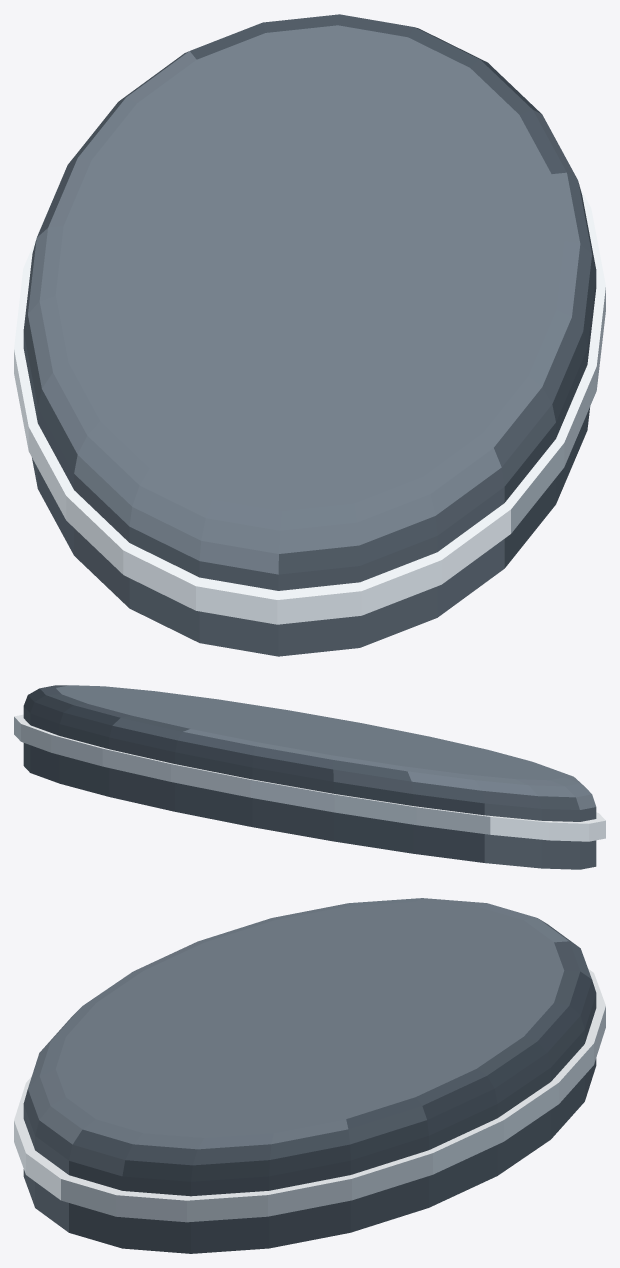
The model's file is Button_ResetBase.gltf.
3 renders of one model, top to bottom at view 1: azimuth 30°, elevation 25°; view 2: azimuth 150°, elevation 25°; view 3: azimuth 270°, elevation 25°, orthographic. The views are drawn at different scales.
Parts seen in each view (by area): view 1: Button_ResetBase_baked; view 2: Button_ResetBase_baked; view 3: Button_ResetBase_baked.
Part boxes in pixels (x1,y1,x2,y2): Button_ResetBase_baked: [14, 14, 605, 656]; Button_ResetBase_baked: [14, 685, 605, 869]; Button_ResetBase_baked: [14, 898, 605, 1253].
Size of the model in its own units: 0.8004 by 0.4146 by 0.744.
